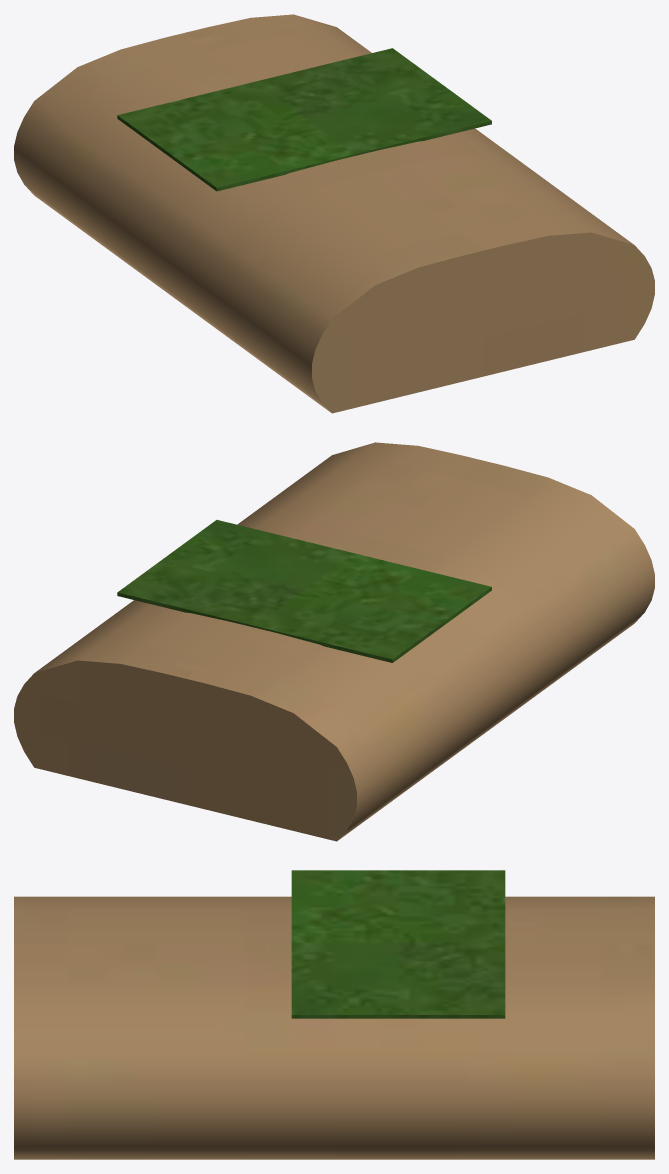
The model's file is PAV-PAI-002_lod1.glb.
3 renders of one model, top to bottom at view 1: azimuth 30°, elevation 25°; view 2: azimuth 150°, elevation 25°; view 3: azimuth 270°, elevation 25°, orthographic. The views are drawn at different scales.
Parts seen in each view (by area): view 1: PAV-PAI-002_saco, PAV-PAI-002_faixa; view 2: PAV-PAI-002_saco, PAV-PAI-002_faixa; view 3: PAV-PAI-002_saco, PAV-PAI-002_faixa.
Boxes of the visible parts, box(x1,y1,x2,y2) form: PAV-PAI-002_saco: box(14, 14, 654, 413); PAV-PAI-002_faixa: box(117, 48, 491, 191); PAV-PAI-002_saco: box(14, 442, 654, 841); PAV-PAI-002_faixa: box(117, 520, 491, 662); PAV-PAI-002_saco: box(14, 896, 654, 1159); PAV-PAI-002_faixa: box(291, 870, 505, 1018).
Bounding box in the file's own units: 0.1995 × 0.071 × 0.3.
2 materials, 2 textured.
